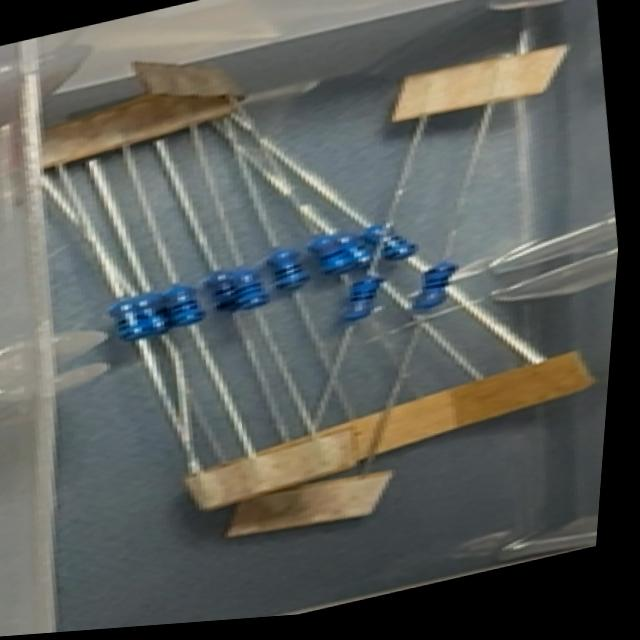Resistor: (406, 260, 461, 313), (308, 227, 358, 281), (366, 216, 422, 264), (108, 293, 154, 346), (336, 274, 383, 324), (162, 279, 205, 332), (266, 244, 310, 295), (202, 266, 246, 315), (230, 263, 268, 313), (330, 227, 372, 270), (138, 290, 170, 338)
